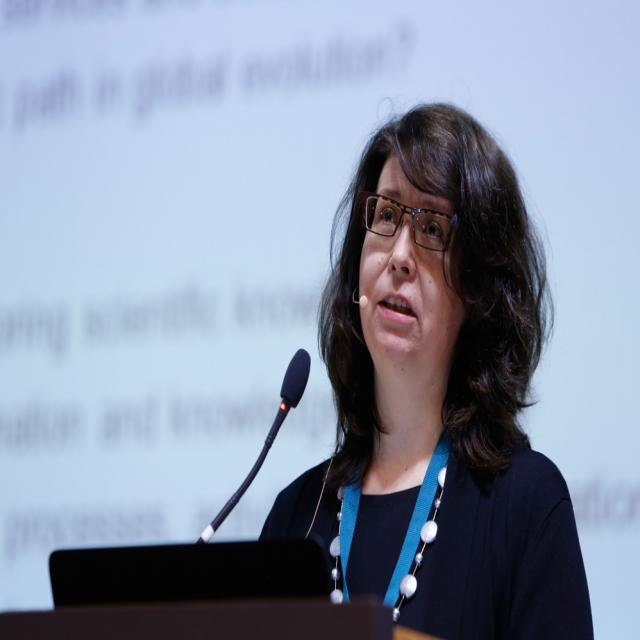Glasses: (354, 190, 479, 268)
